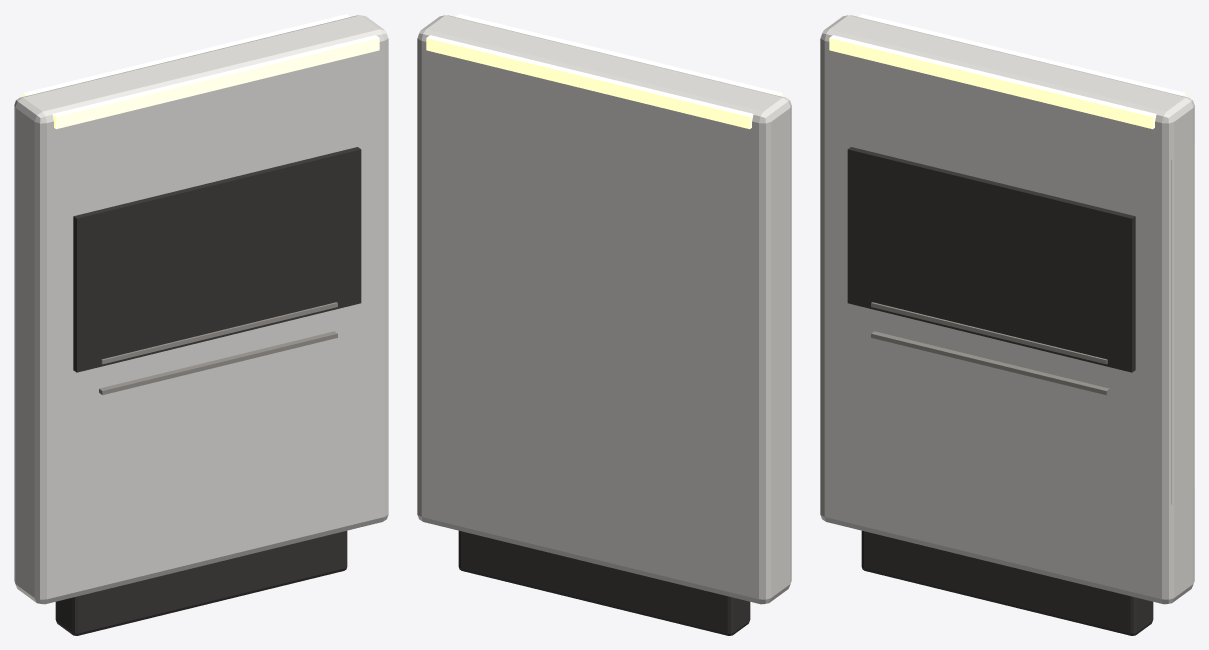
The model's file is topo_ne.glb.
The picture shows the model from 3 angles, left to right: view 1: azimuth 30°, elevation 25°; view 2: azimuth 150°, elevation 25°; view 3: azimuth 330°, elevation 25°; orthographic projection.
Parts seen in each view (by area): view 1: TOPO_NE; view 2: TOPO_NE; view 3: TOPO_NE.
Part boxes in pixels (x1=…): TOPO_NE: x1=14, y1=14, x2=388, y2=635; TOPO_NE: x1=417, y1=14, x2=791, y2=635; TOPO_NE: x1=820, y1=14, x2=1194, y2=635.
Bounding box in the file's own units: 0.36 × 0.5205 × 0.062.
